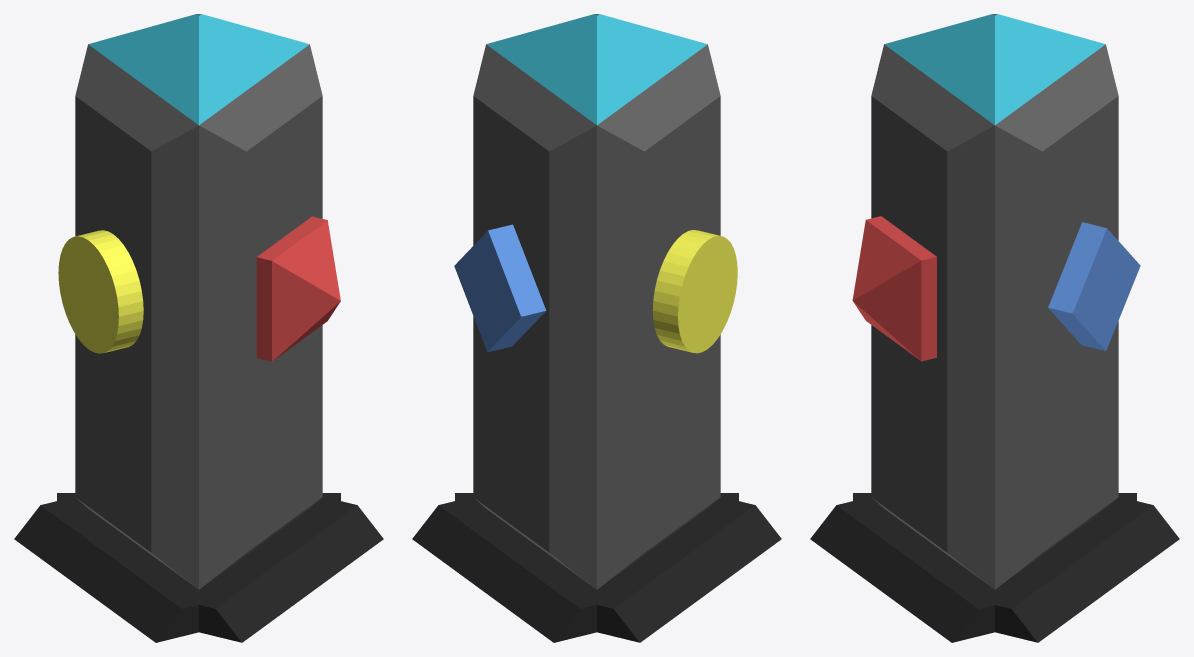
File: ChildTotemV2.fbx
3 renders of one model, left to right at view 1: azimuth 30°, elevation 25°; view 2: azimuth 150°, elevation 25°; view 3: azimuth 270°, elevation 25°, orthographic.
Parts seen in each view (by area): view 1: Totem_1; view 2: Totem_1; view 3: Totem_1.
Part boxes in pixels (x1=…): Totem_1: x1=14, y1=14, x2=383, y2=642; Totem_1: x1=412, y1=14, x2=781, y2=642; Totem_1: x1=810, y1=14, x2=1179, y2=642.
Bounding box in the file's own units: 190 × 358 × 219.
